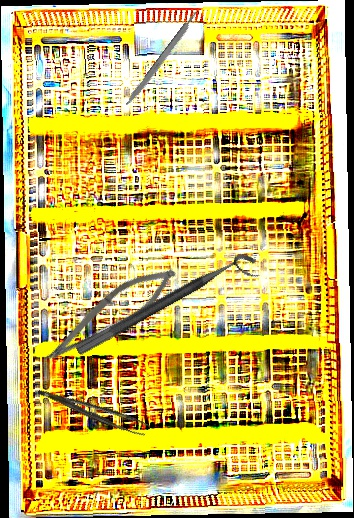Fixation Ring: (74, 248, 264, 371)
Micro Scissor: (36, 251, 185, 381)
Scalpel Handle: (124, 9, 201, 109)
Tissue Forceps: (37, 376, 150, 443)
